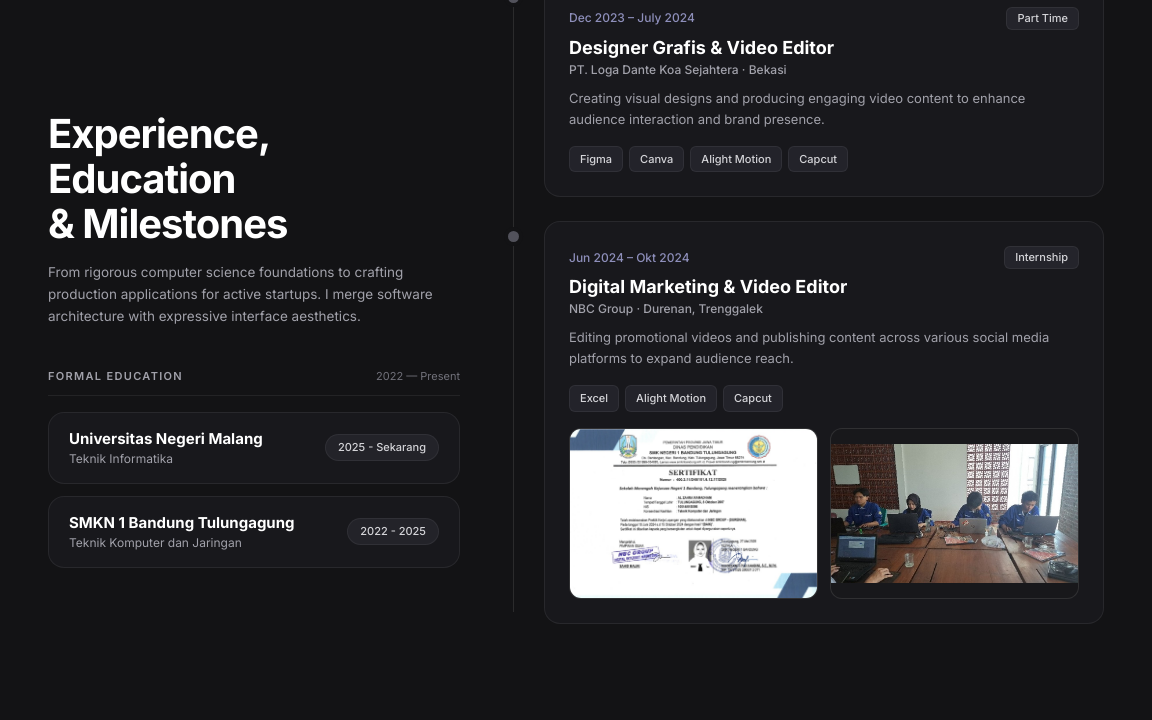
Scenario: Zahra Portfolio V2 — Specification & Component Verification › renders ExperienceEducationSection without View More, sticky left column, 4 real experiences with tools, #8E8FBB dates, and Lightbox Modal
(page scrolled)
expect the element that starts with "Experience," is shown: met, box [48, 112, 460, 568]
expect the heading "Universitas Negeri Malang" is shown: met, box [69, 429, 263, 449]
Click the button named "zoom image". click: coordinates (694, 513)
box: [569, 428, 818, 599]
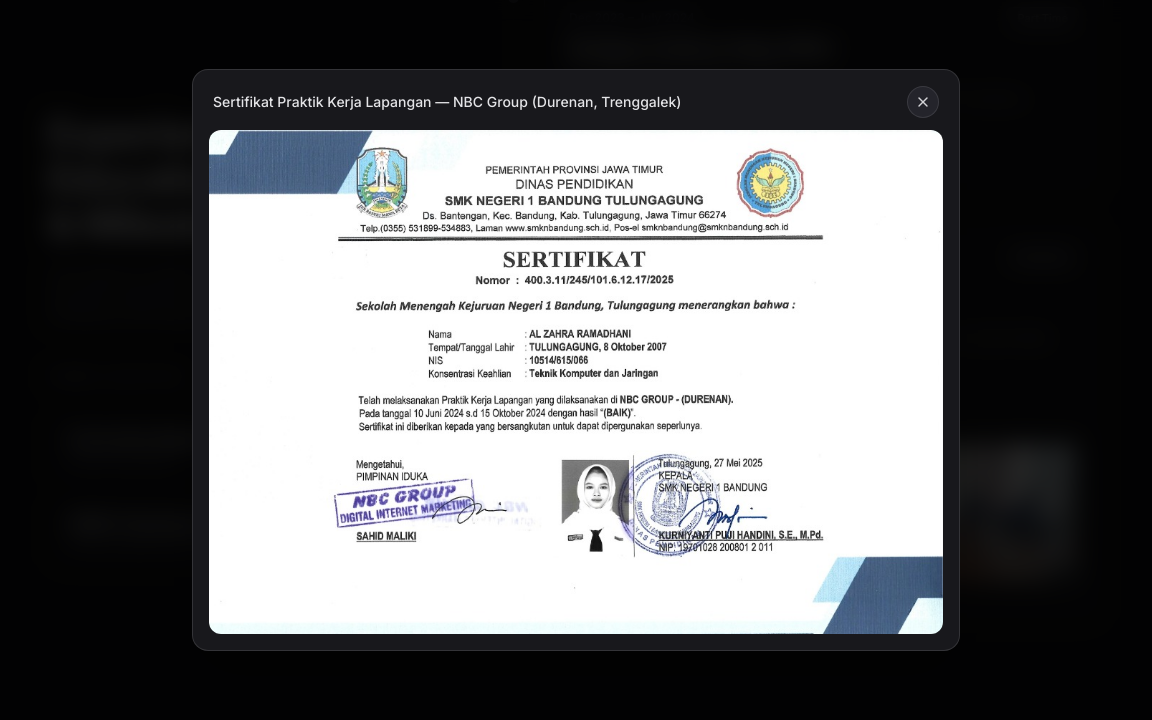
expect the dialog is shown: met
Press Escape
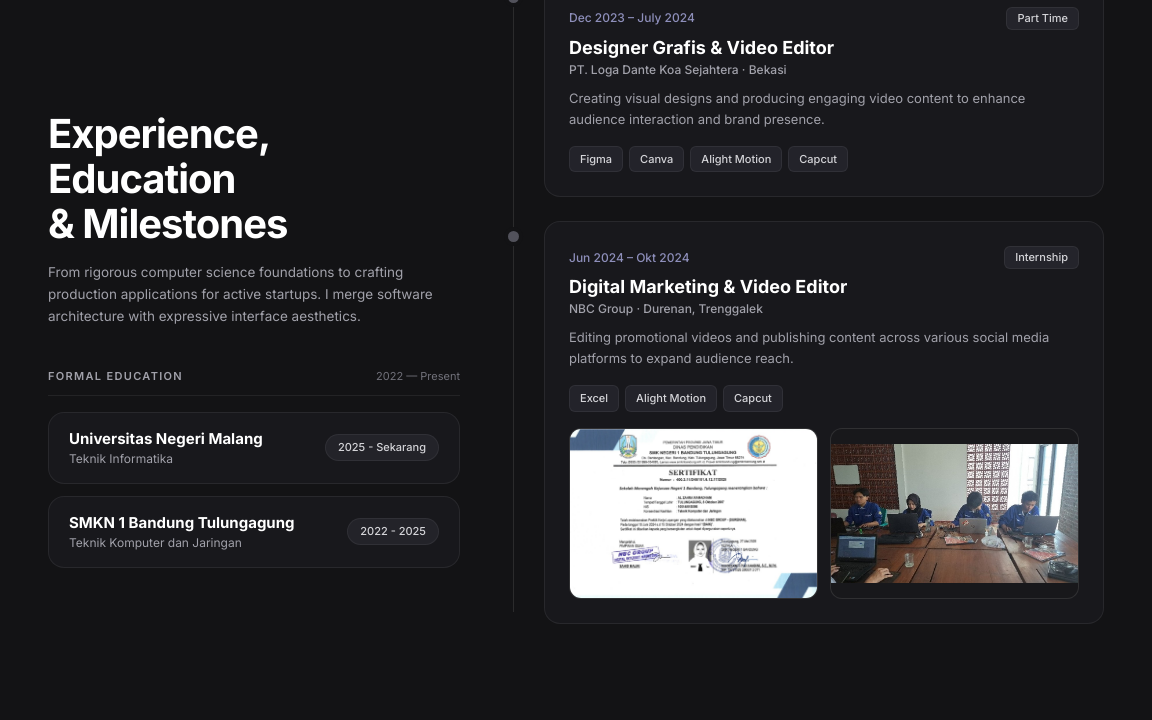
expect the dialog is gone: met
